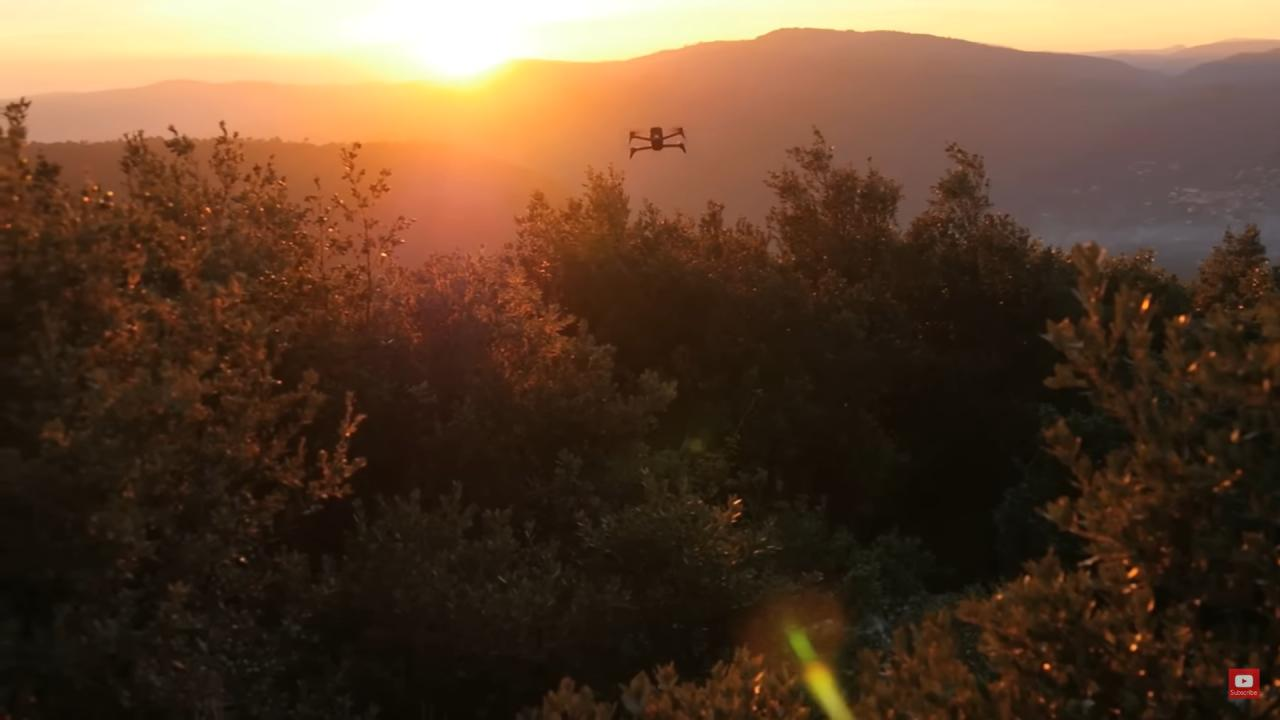Drone: (622, 120, 694, 163)
